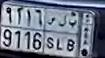1: (14, 7, 22, 49), (24, 9, 31, 50)
6: (32, 8, 42, 51)
9: (2, 6, 12, 47)
B: (67, 18, 76, 52)
L: (56, 14, 67, 53)
S: (46, 14, 56, 51)
